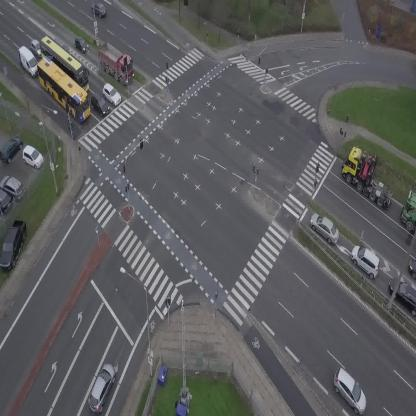bus: (29, 54, 100, 124), (32, 34, 98, 94)
car: (325, 365, 376, 416), (84, 361, 120, 415), (345, 242, 386, 280), (305, 209, 345, 246), (98, 81, 124, 107), (87, 91, 112, 118), (70, 34, 91, 56), (54, 36, 71, 51), (30, 39, 39, 57)
lorry: (333, 142, 409, 211), (88, 36, 142, 88), (12, 43, 43, 80), (402, 192, 416, 232)
